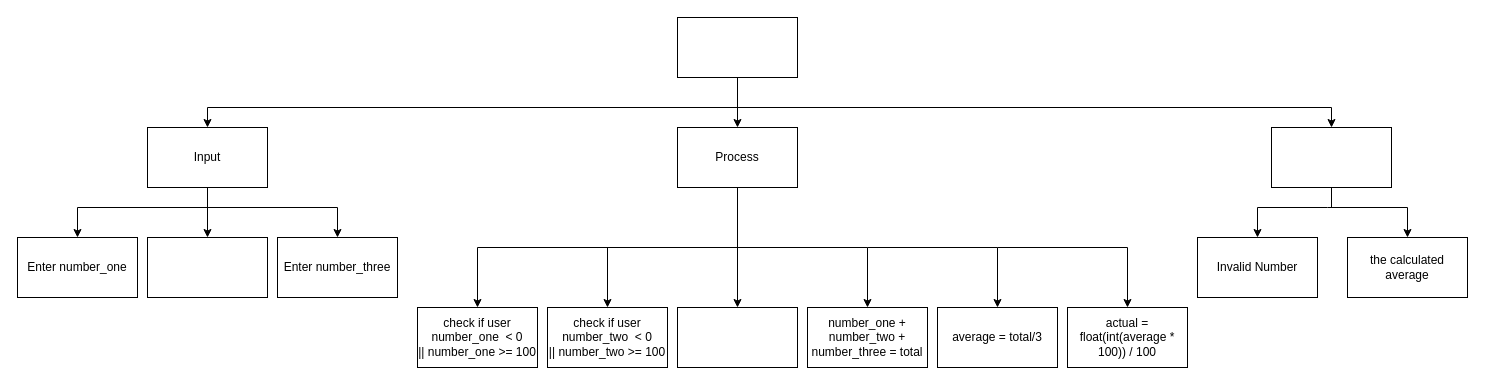
Image size: 1485x385. Some labels were removed from this diagram. Here are the shapes that lost their labels. From the top down, the centre of each, then its label:
At (x=737, y=47): "average calculator".
At (x=1331, y=157): "Output".
At (x=207, y=267): "Enter number_two".
At (x=737, y=337): "check if user number_three < 0 || number_three >= 100".
